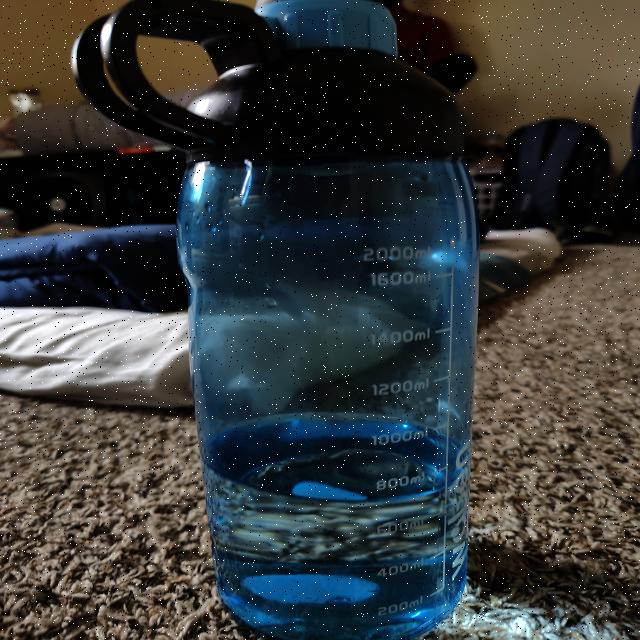bottle: (68, 0, 496, 640)
